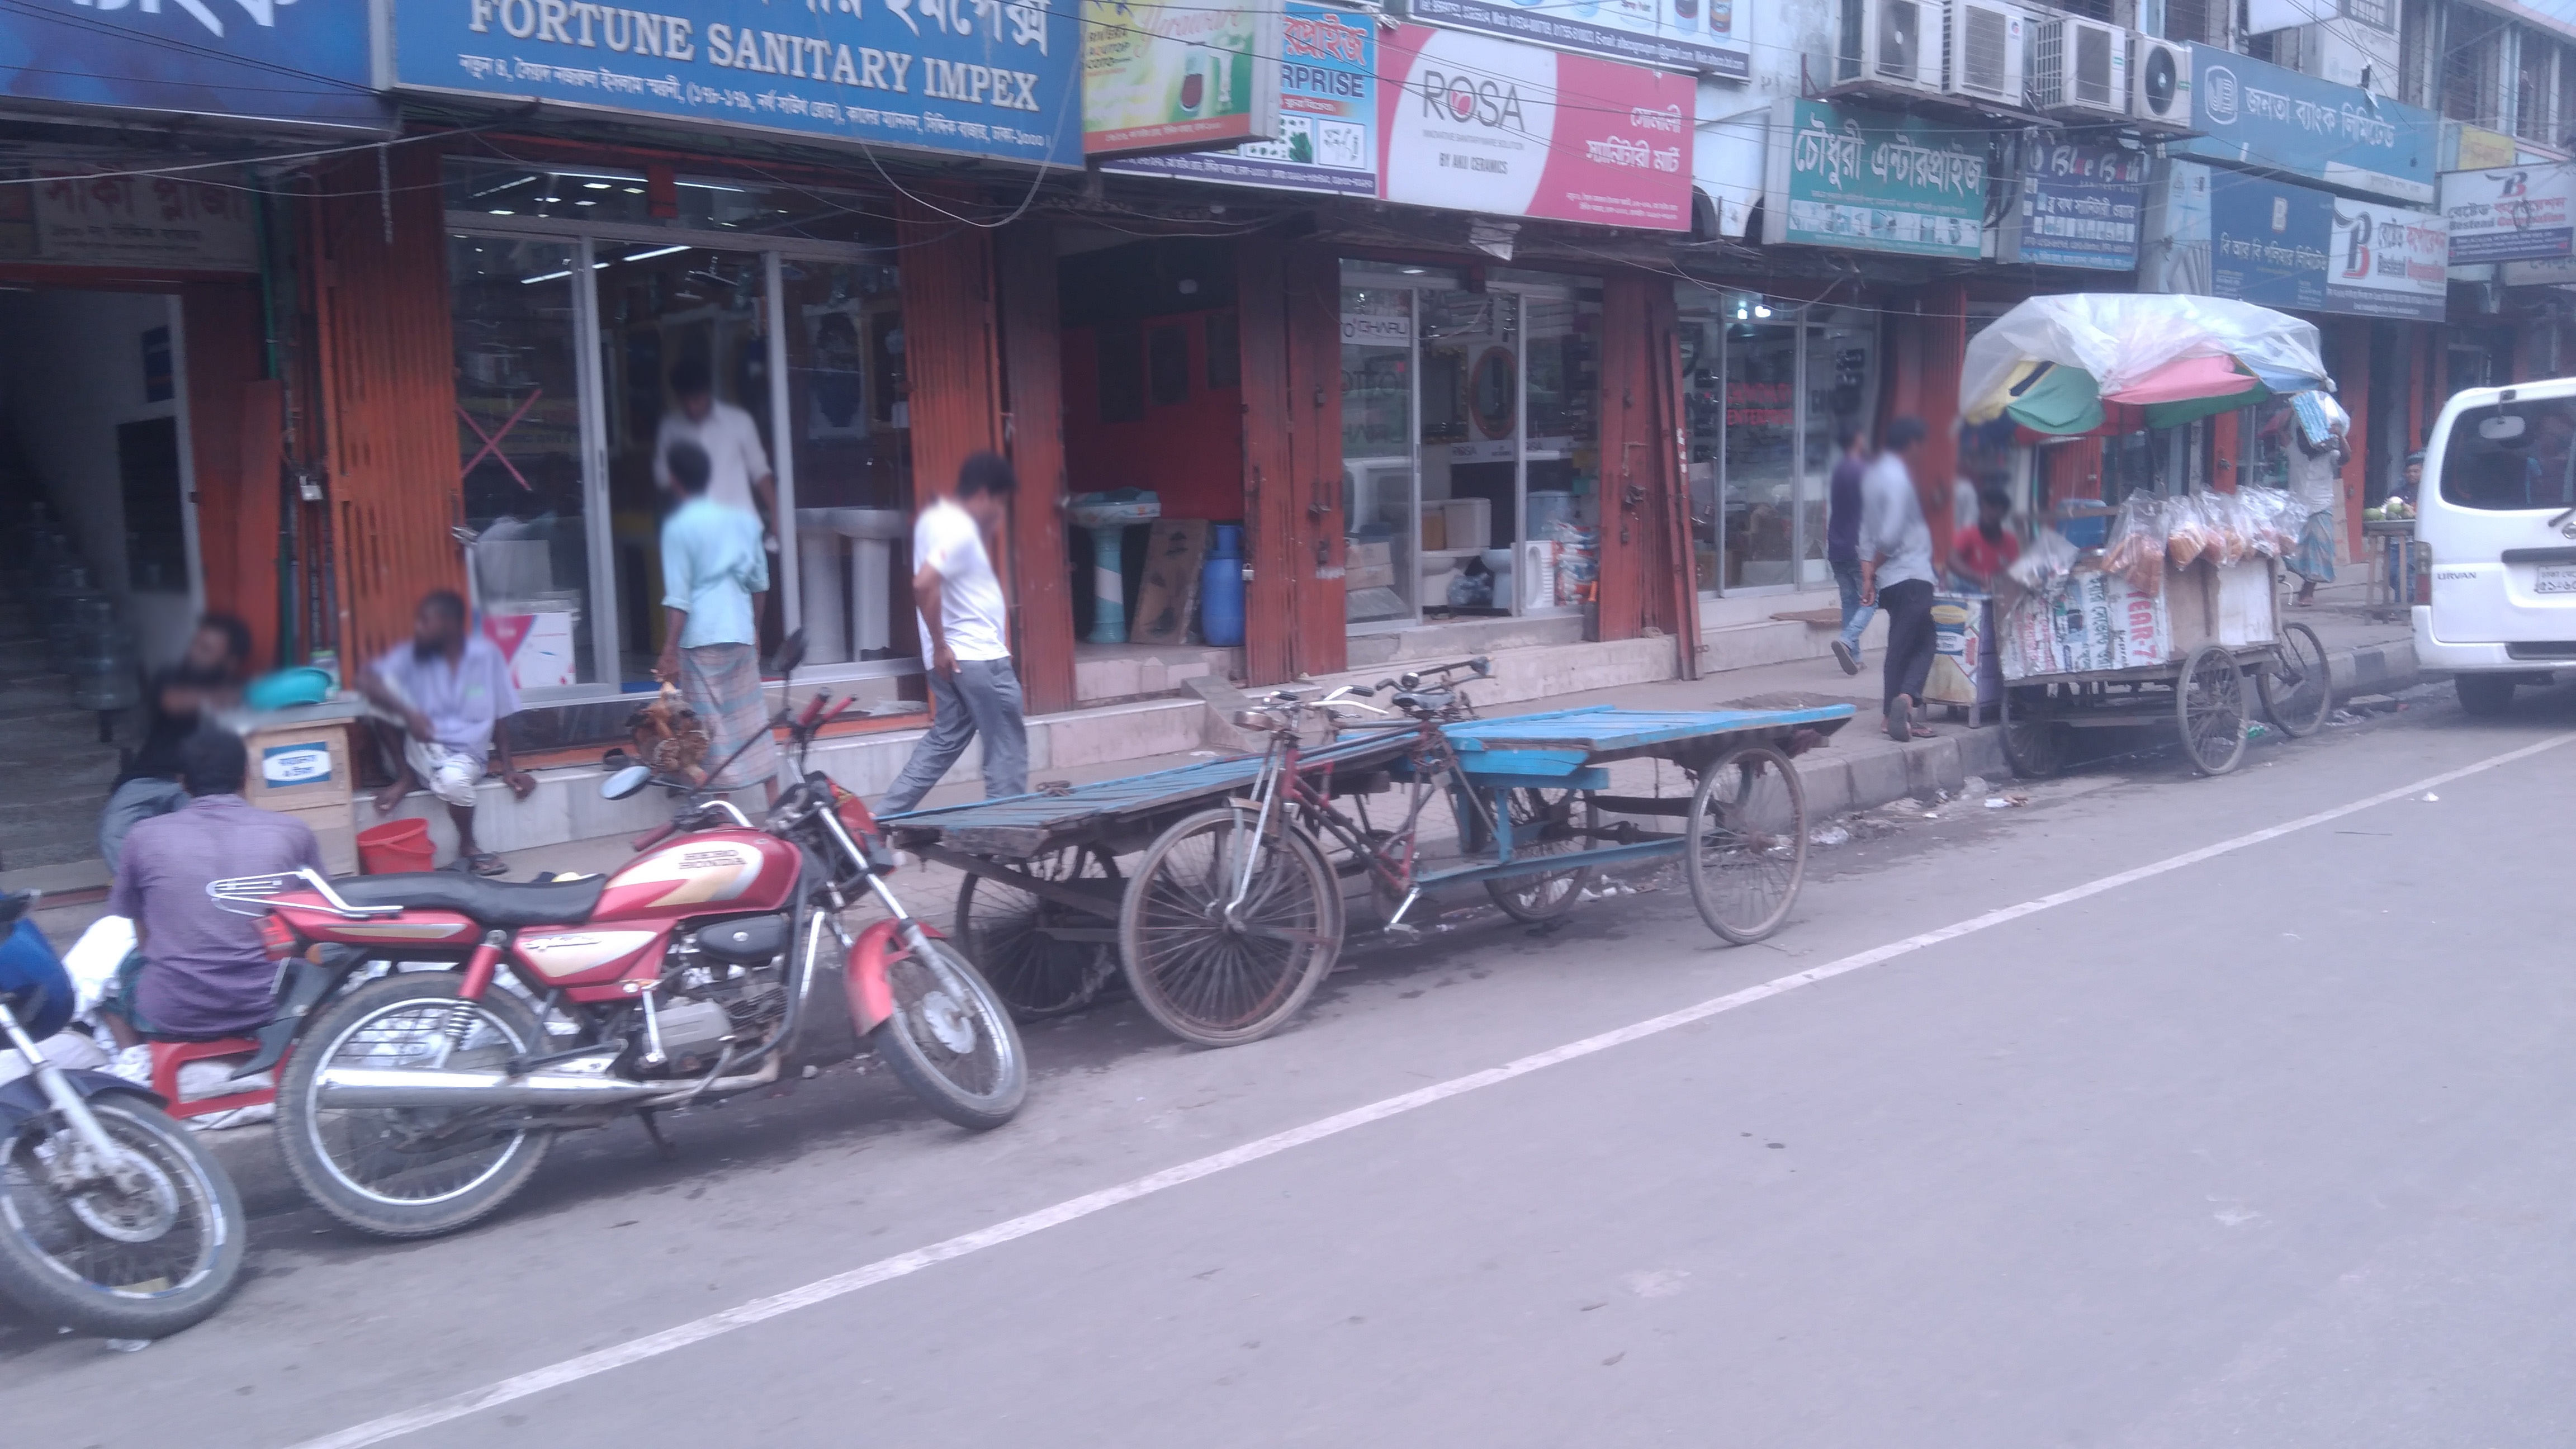bike: (246, 671, 1044, 1237), (0, 913, 255, 1341)
car: (2399, 370, 2576, 722)
van: (1132, 653, 1856, 1063), (890, 669, 1529, 1019), (1996, 603, 2335, 791)
